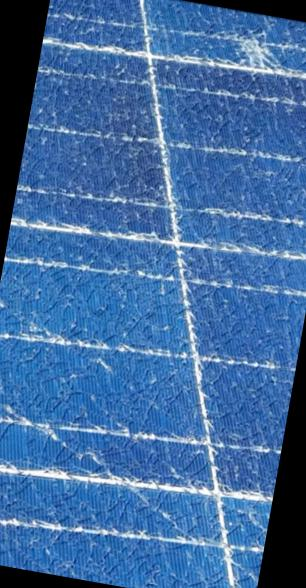Crack: (205, 15, 295, 84)
